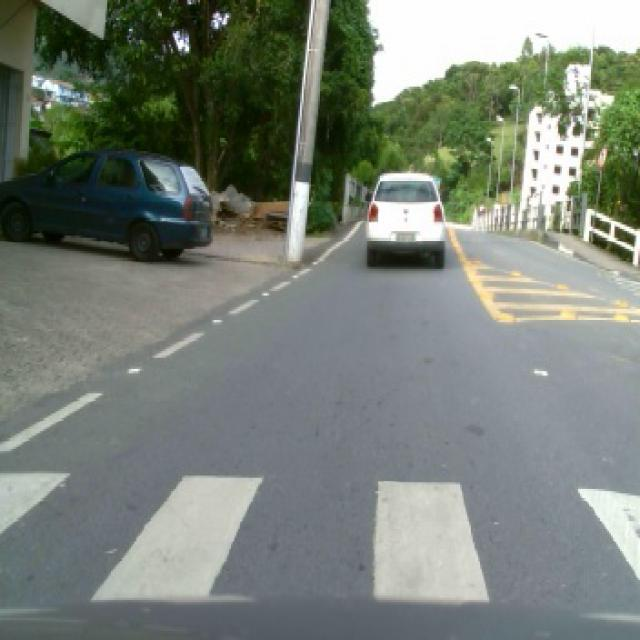Poth-hole: (534, 366, 551, 376), (498, 311, 516, 320), (562, 309, 580, 318), (614, 311, 632, 320), (479, 288, 496, 296), (129, 364, 146, 372), (556, 282, 571, 289), (212, 316, 225, 322), (512, 268, 524, 274), (262, 288, 271, 294), (618, 300, 631, 304), (293, 271, 302, 276), (314, 260, 320, 262)
